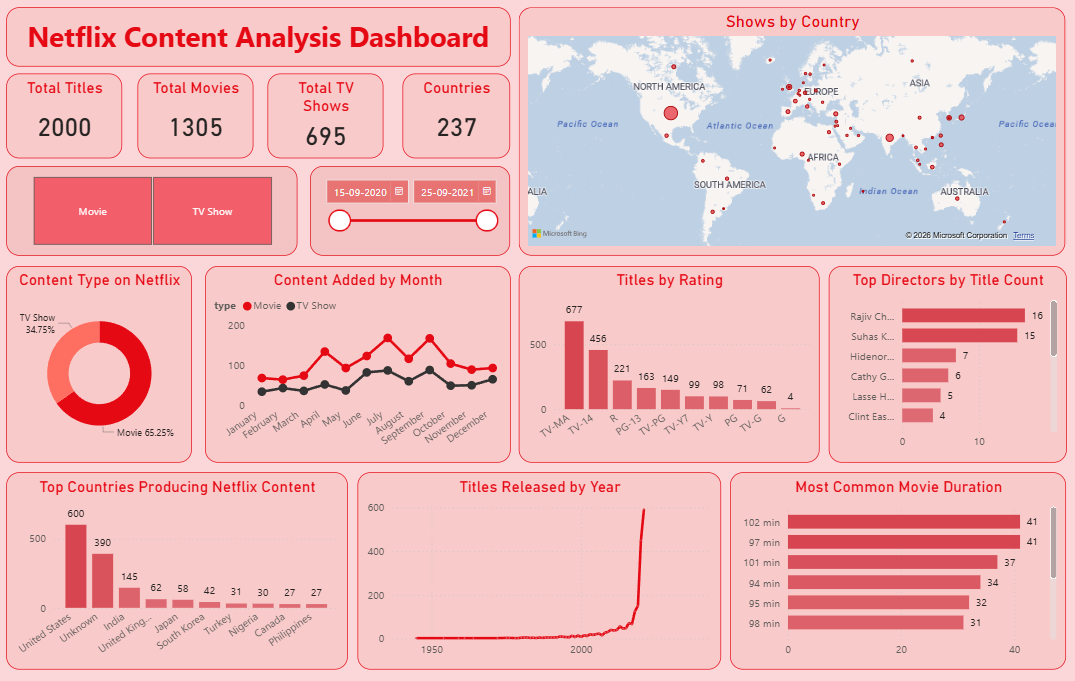

This screenshot's page, from the dashboard's own definition file:
{"tool":"powerbi","page":{"name":"Page 1","canvas":[1280,850],"ordinal":0},"visuals":[{"type":"card","title":"Total Titles","fields":{"Values":["netflix_analysis netflix_titles.Total Titles"]},"box":[12.3,89.2,134.5,98.8],"z":0},{"type":"card","title":"Countries","fields":{"Values":["netflix_analysis netflix_titles.Countries"]},"box":[472,89.2,124.9,98.8],"z":3000},{"type":"donutChart","title":"Content Type on Netflix","fields":{"Category":["netflix_analysis netflix_titles.type"],"Y":["CountNonNull(netflix_analysis netflix_titles.show_id)"]},"box":[12.3,312.9,215.4,227.8],"z":4000},{"type":"slicer","title":"Type","fields":{"Values":["netflix_analysis netflix_titles.type"]},"box":[12.3,197.6,337.6,104.3],"z":6000},{"type":"slicer","fields":{"Values":["netflix_analysis netflix_titles.date_added"]},"box":[365,197.6,231.9,104.3],"z":7000},{"type":"lineChart","title":"Content Added by Month","fields":{"Series":["netflix_analysis netflix_titles.type"],"Y":["CountNonNull(netflix_analysis netflix_titles.show_id)"],"Category":["netflix_analysis netflix_titles.Month"]},"box":[242.9,312.9,354,227.8],"z":8000},{"type":"clusteredBarChart","title":"Top Directors by Title Count","fields":{"Category":["netflix_analysis netflix_titles.director"],"Y":["CountNonNull(netflix_analysis netflix_titles.show_id)"]},"box":[966,312.9,275.8,227.8],"z":10000},{"type":"columnChart","title":"Titles by Rating","fields":{"Category":["netflix_analysis netflix_titles.rating"],"Y":["CountNonNull(netflix_analysis netflix_titles.show_id)"]},"box":[607.9,312.9,348.5,227.8],"z":11000},{"type":"map","title":"Shows by Country","fields":{"Category":["netflix_analysis netflix_titles.country"],"Size":["CountNonNull(netflix_analysis netflix_titles.show_id)"]},"box":[607.9,13.7,634,288.2],"z":12000},{"type":"textbox","box":[12.3,13.7,584.6,68.6],"z":12002},{"type":"card","title":"Total Movies","fields":{"Values":["netflix_analysis netflix_titles.Total Movies"]},"box":[164.7,89.2,134.5,98.8],"z":12003},{"type":"card","title":"Total TV Shows","fields":{"Values":["netflix_analysis netflix_titles.Total TV Shows"]},"box":[315.6,89.2,134.5,98.8],"z":12004},{"type":"columnChart","title":"Top Countries Producing Netflix Content","fields":{"Category":["netflix_analysis netflix_titles.country"],"Y":["CountNonNull(netflix_analysis netflix_titles.show_id)"]},"box":[13,552.2,395.7,229],"z":12005},{"type":"lineChart","title":"Titles Released by Year","fields":{"Category":["netflix_analysis netflix_titles.release_year"],"Y":["CountNonNull(netflix_analysis netflix_titles.show_id)"]},"box":[420.3,552.2,421.7,229],"z":12006},{"type":"barChart","title":"Most Common Movie Duration","fields":{"Category":["netflix_analysis netflix_titles.duration"],"Y":["CountNonNull(netflix_analysis netflix_titles.show_id)"]},"box":[852.2,552.2,389.9,229],"z":12007}]}

Visuals, with their boxes on the page's 1280x850 design canvas (x1, y1, x2, y2). These are canvas units, not pixel positions in the 1075x681 screenshot, which may show the page scaled, cropped or inside an application window:
"Total Titles" card: region(12, 89, 147, 188)
"Countries" card: region(472, 89, 597, 188)
"Content Type on Netflix" donutChart: region(12, 313, 228, 541)
"Type" slicer: region(12, 198, 350, 302)
slicer - netflix_analysis netflix_titles.date_added: region(365, 198, 597, 302)
"Content Added by Month" lineChart: region(243, 313, 597, 541)
"Top Directors by Title Count" clusteredBarChart: region(966, 313, 1242, 541)
"Titles by Rating" columnChart: region(608, 313, 956, 541)
"Shows by Country" map: region(608, 14, 1242, 302)
textbox: region(12, 14, 597, 82)
"Total Movies" card: region(165, 89, 299, 188)
"Total TV Shows" card: region(316, 89, 450, 188)
"Top Countries Producing Netflix Content" columnChart: region(13, 552, 409, 781)
"Titles Released by Year" lineChart: region(420, 552, 842, 781)
"Most Common Movie Duration" barChart: region(852, 552, 1242, 781)
